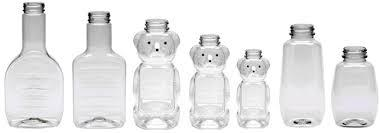Container for household chemicals: (8, 5, 380, 133)
